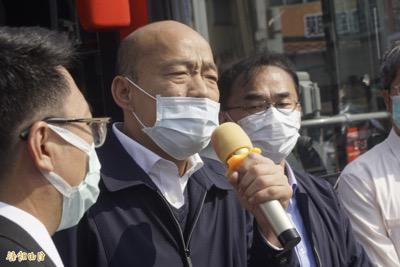mask_weared_incorrect: (127, 54, 219, 162)
with_mask: (45, 99, 111, 233), (224, 87, 301, 165)
